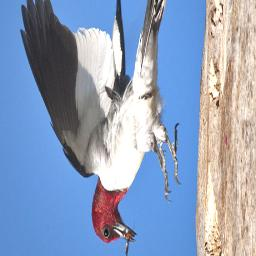Woodpecker: (20, 0, 180, 253)
